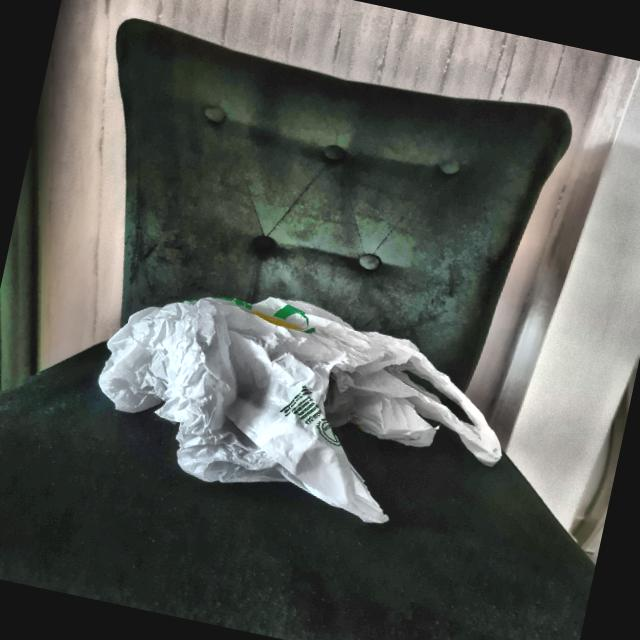plastic bag: (73, 245, 536, 564)
